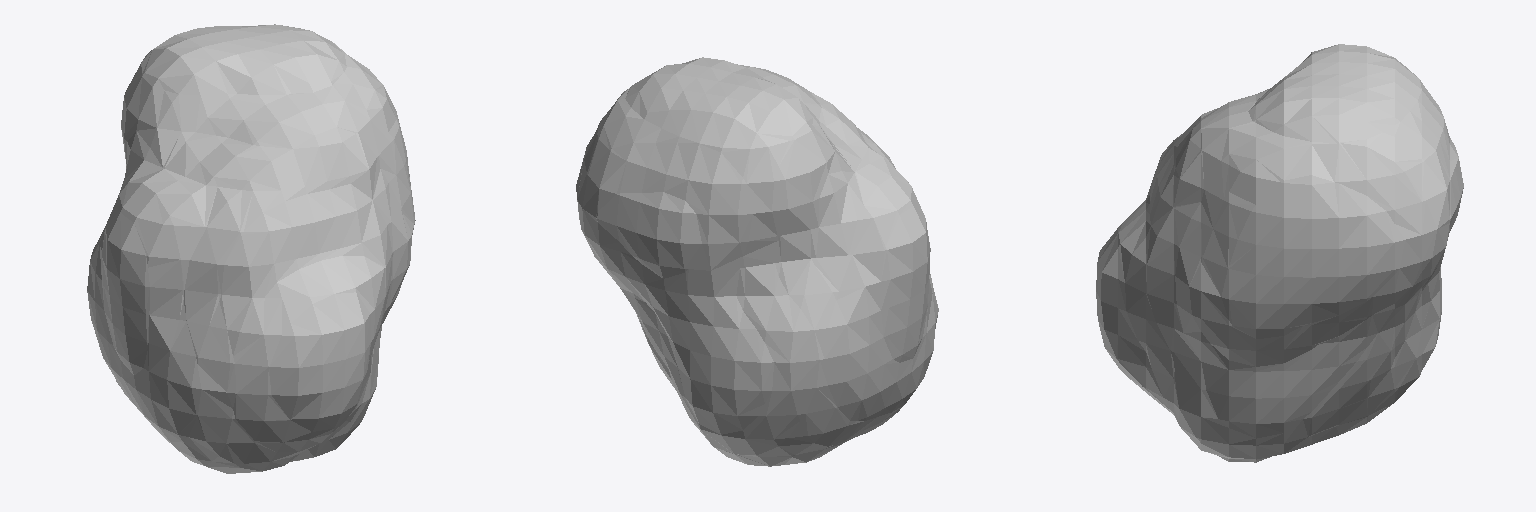
File: 1m6y_1_cms.obj
3 views of the same model, side by side, from view 1: azimuth 30°, elevation 25°; view 2: azimuth 150°, elevation 25°; view 3: azimuth 270°, elevation 25° (orthographic).
Bounding box in the file's own units: 59.35 × 73.94 × 63.93.